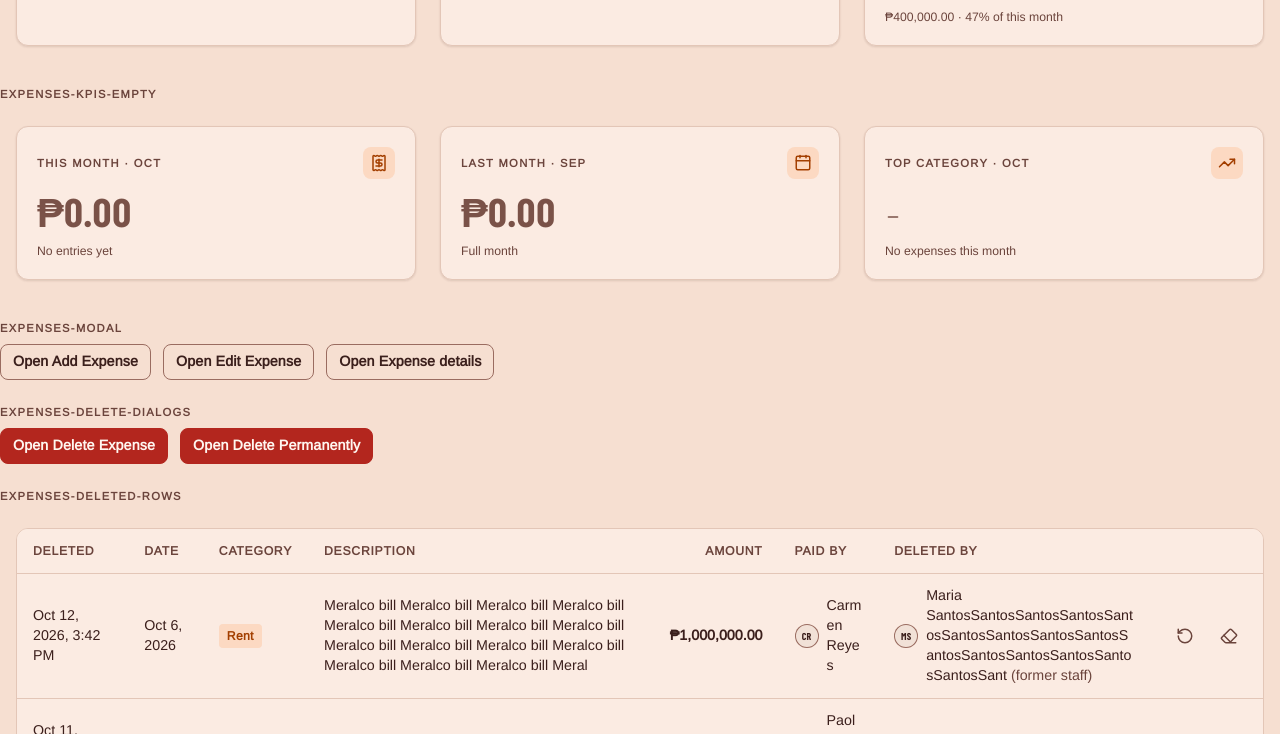
Test: Phase6Demos: the expense modal and the delete dialogs are live › opens the E2 modal in view mode with 1,000 characters of notes and a Close button only
(page scrolled)
Click the button "Open Expense details".
click(410, 362)  # box top-left (326, 344), bottom-right (494, 380)
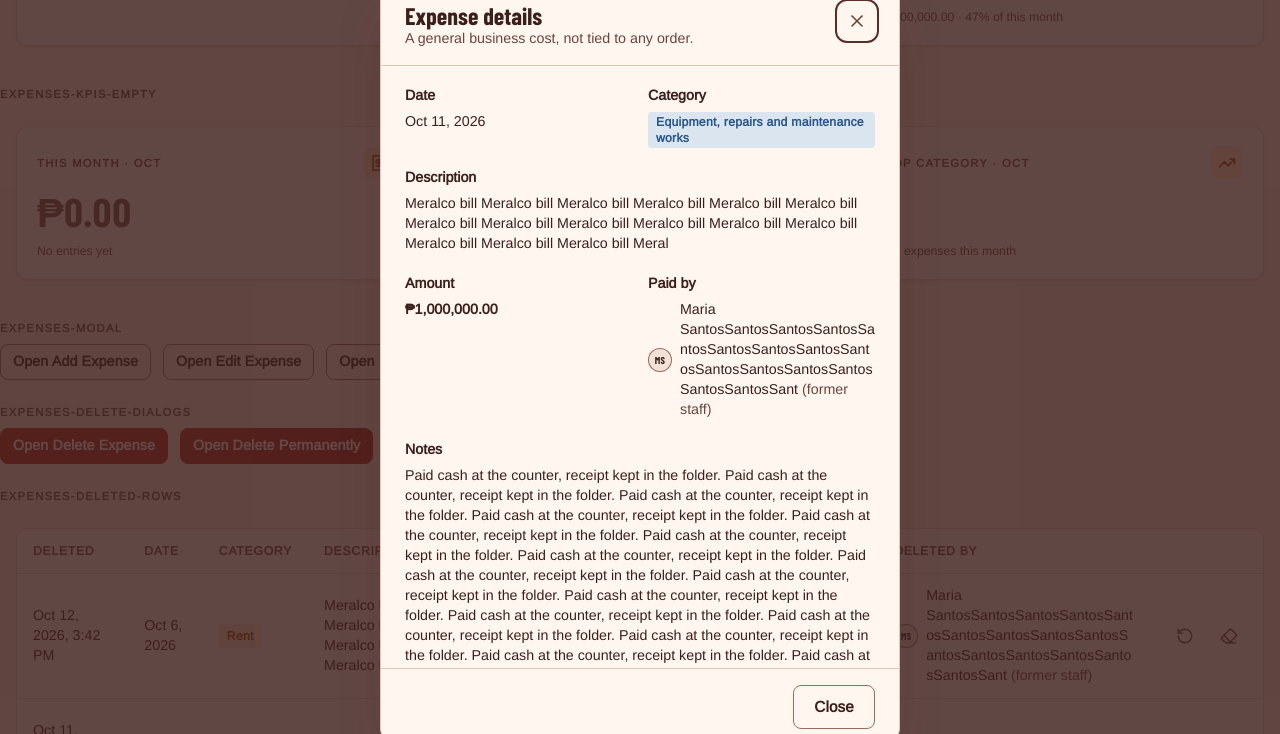
Now the button named "Close" is shown, box top-left (839, 3), bottom-right (875, 39)
